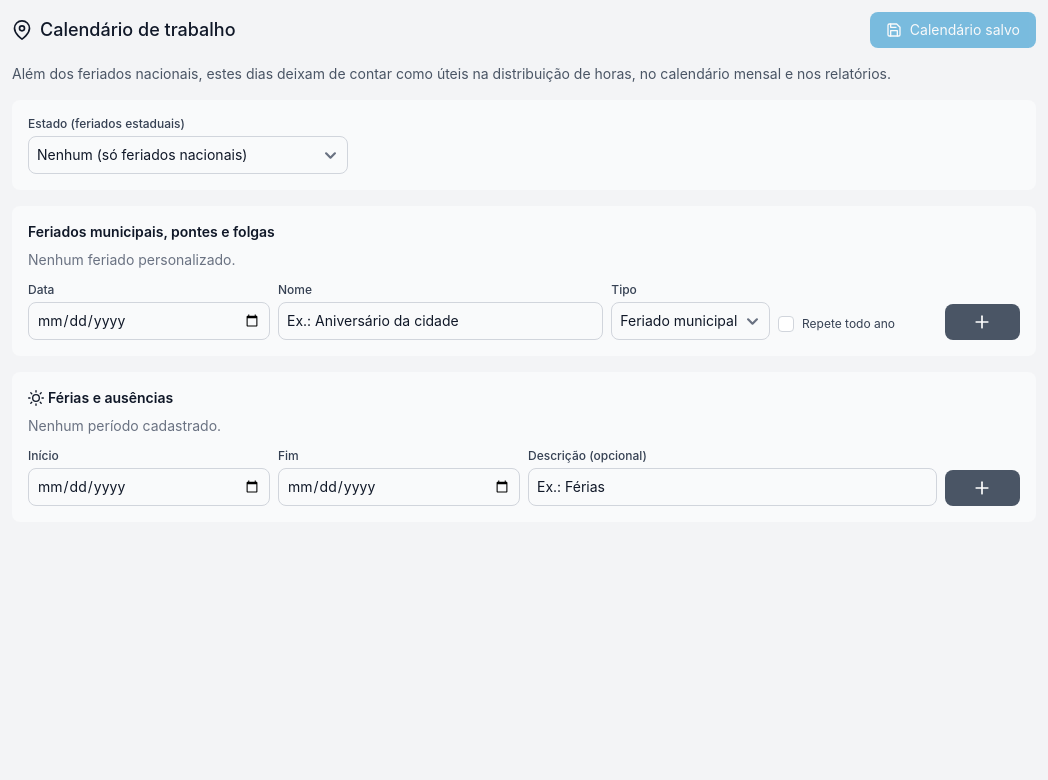
WorkCalendarSettings › avisa quando a UF não tem feriado estadual fixo
Select "MG — Minas Gerais" in the dropdown labelled "Estado (feriados estaduais)" at (188, 155), box [28,136,348,174]
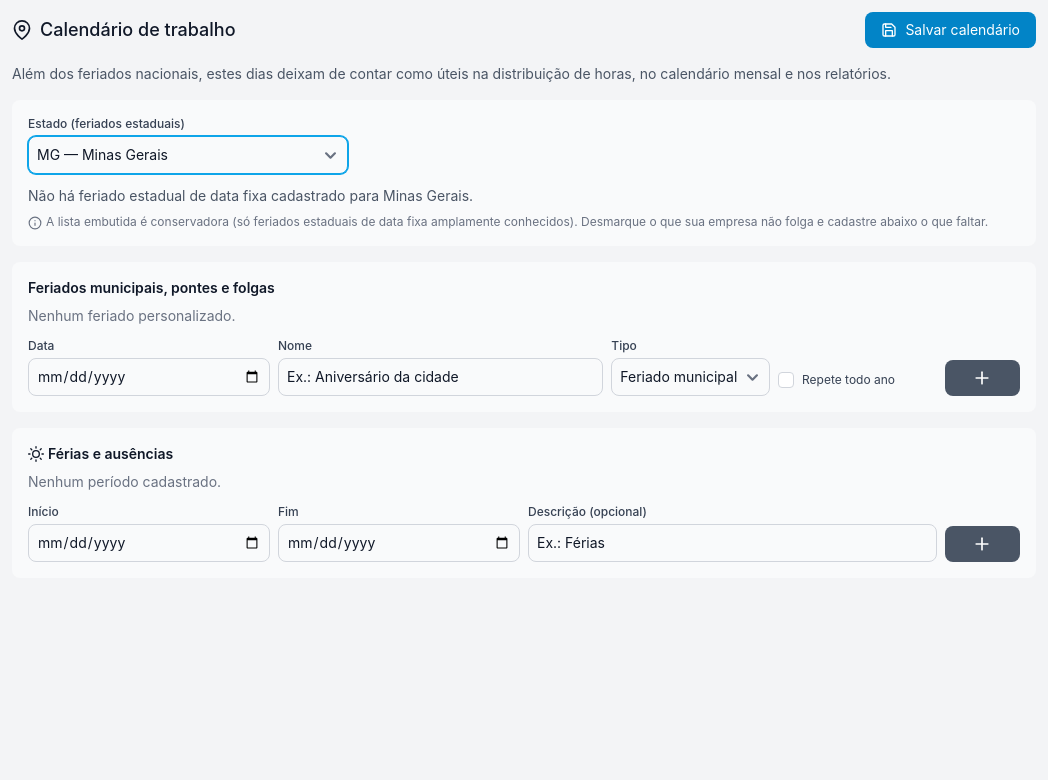
Expected: the text "Não há feriado estadual de data fixa" is shown, [28,187,383,204]
